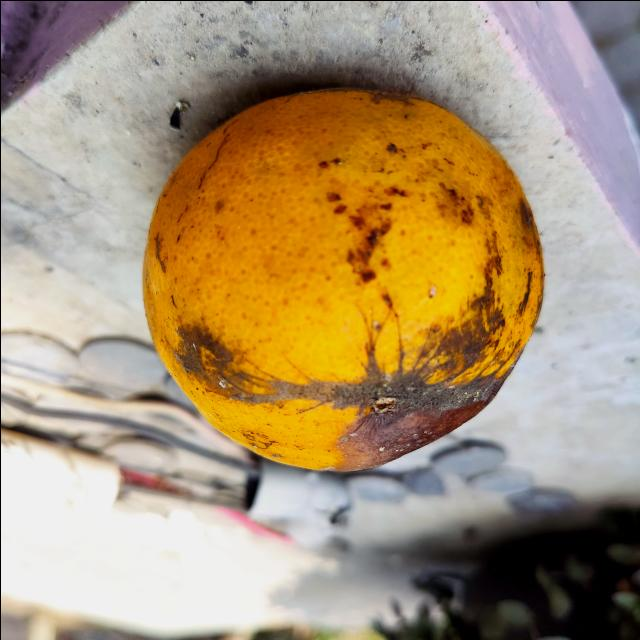orange: (137, 88, 546, 476)
